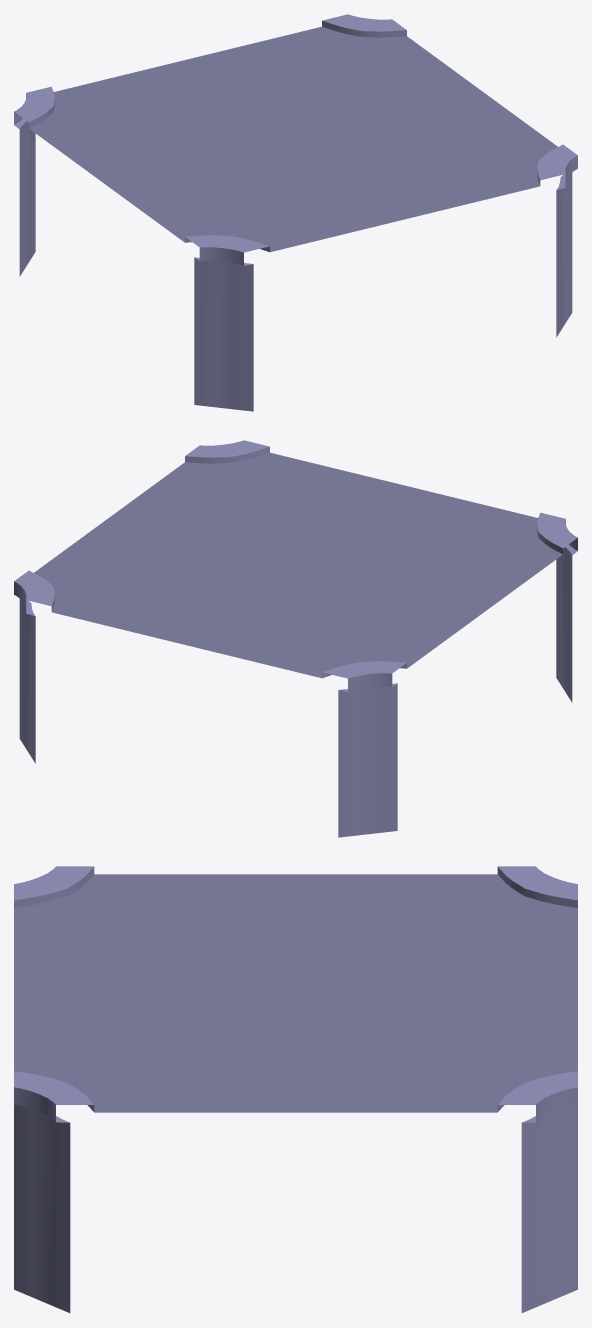
The model's file is Wall_Inside_Corner_x4.fbx.
3 views of the same model, one above another, from view 1: azimuth 30°, elevation 25°; view 2: azimuth 150°, elevation 25°; view 3: azimuth 270°, elevation 25° (orthographic). The views are drawn at different scales.
Visible parts, largest first — view 1: Wall_Inside_Corner_x4; view 2: Wall_Inside_Corner_x4; view 3: Wall_Inside_Corner_x4.
Part boxes in pixels (box(x1,y1,x2,y2)): Wall_Inside_Corner_x4: box(14, 14, 577, 411); Wall_Inside_Corner_x4: box(14, 440, 577, 837); Wall_Inside_Corner_x4: box(14, 866, 577, 1312).
Bounding box in the file's own units: 250 × 102 × 250.
